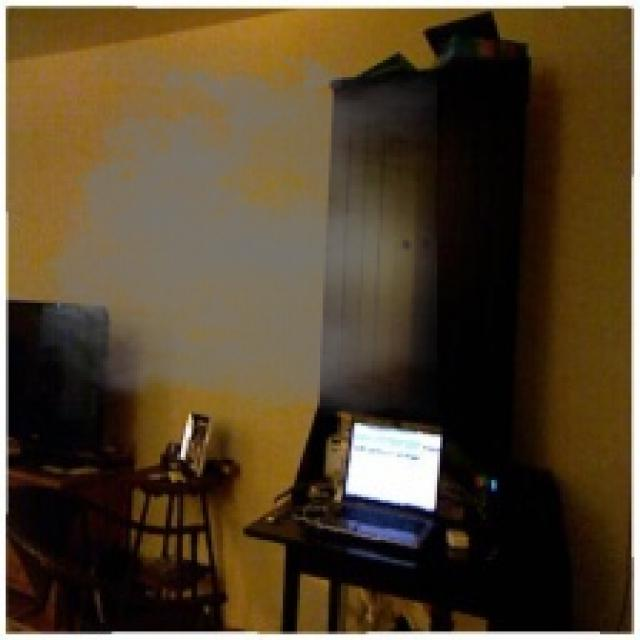smoke: (23, 43, 437, 417)
